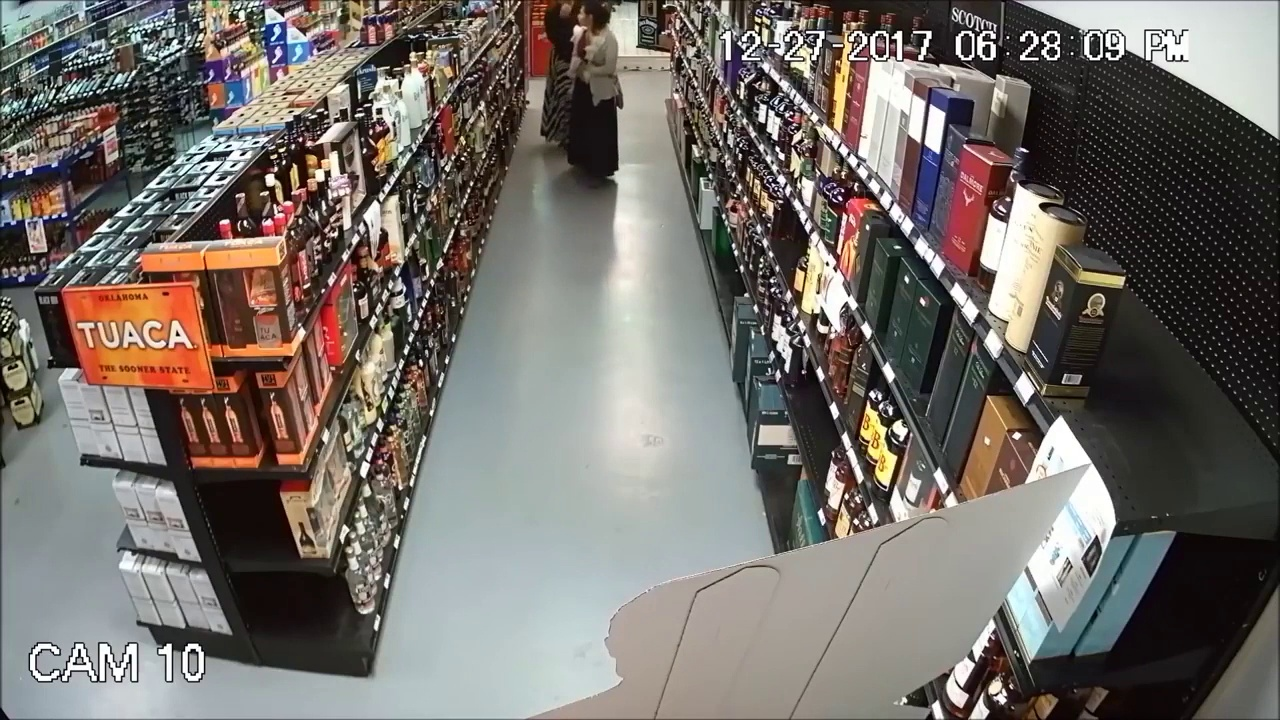face: (572, 4, 594, 27)
